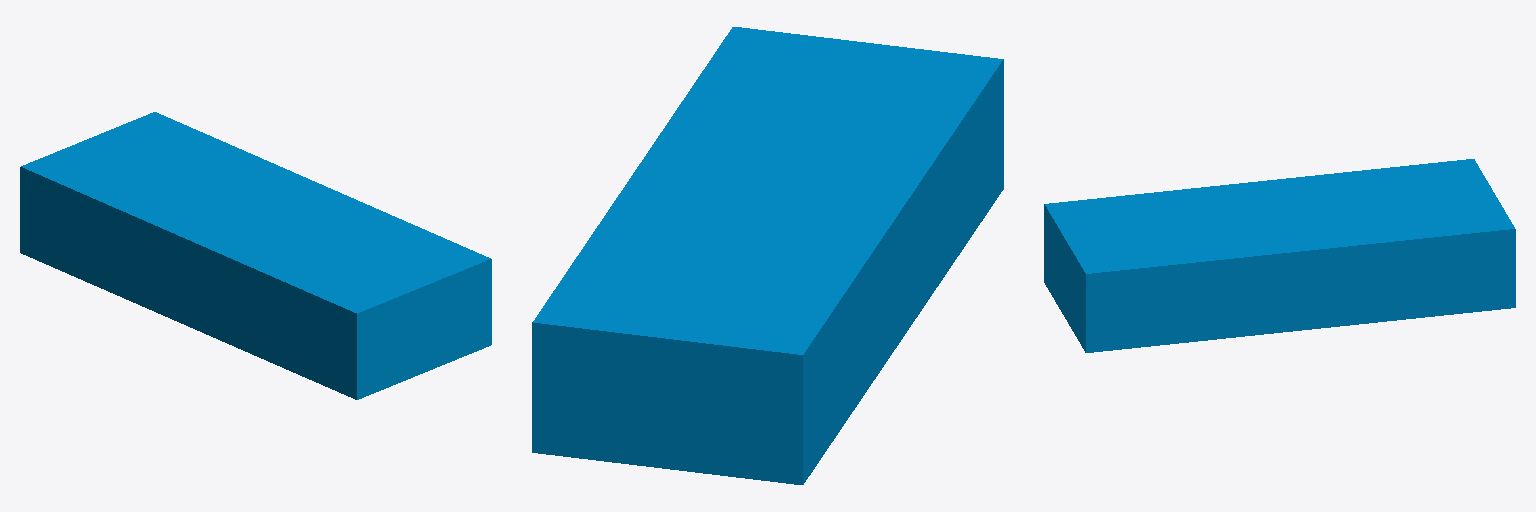
URDF robot description (Interference):
<?xml version="1.0"?>
<robot name="Interference">
  <link name="baseLink">
    <inertial>
      <origin xyz="0.0 0.0 0.0" rpy="0.0 0.0 0.0"/>
      <inertia ixx="0.0" ixy="0.0" ixz="0.0" iyy="0.0" iyz="0.0" izz="0.0"/>
      <mass value="0"/>
    </inertial>
    <visual>
      <origin xyz="0.0 0.0 0.0" rpy="0.0 0.0 -1.3259664771731883"/>
      <geometry>
        <box size="0.05066987824751043 0.019569507335863427 0.01"/>
      </geometry>
      <material name="color">
        <color rgba="0.023215213149894498 0.5971469000155423 0.8456560049457047 1.0"/>
      </material>
    </visual>
  </link>
</robot>

--- Render facts (derived) ---
Views: 3 orthographic renders of the robot side by side, from view 1: azimuth 30°, elevation 25°; view 2: azimuth 150°, elevation 25°; view 3: azimuth 270°, elevation 25°.
Model Interference with 1 links and 0 joints (none), rooted at baseLink, posed all joints at 0.
Links seen in each view (by area): view 1: baseLink; view 2: baseLink; view 3: baseLink.
Link boxes in pixels (box(x1,y1,x2,y2)): baseLink: box(20, 112, 491, 399); baseLink: box(532, 27, 1003, 484); baseLink: box(1044, 159, 1515, 352).
Bounding box of the posed robot: 0.0313 × 0.0539 × 0.01 m (x, y, z).
Geometry: primitives only (box / cylinder / sphere), no mesh files.